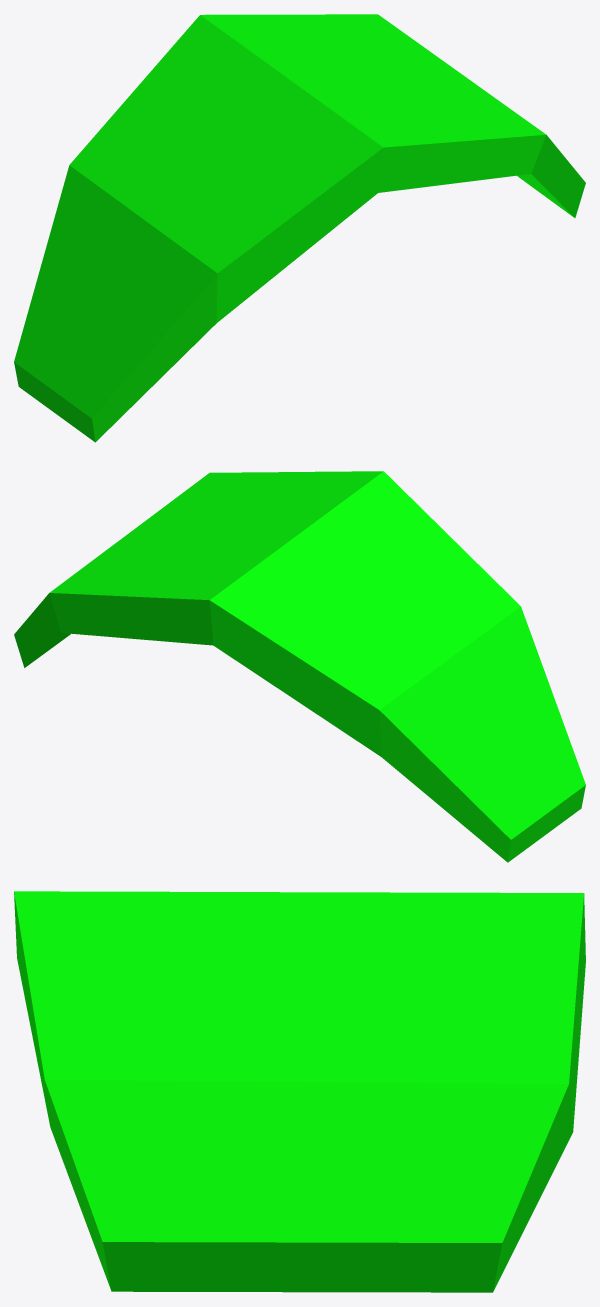
File: Plant_2a.fbx
3 renders of one model, top to bottom at view 1: azimuth 30°, elevation 25°; view 2: azimuth 150°, elevation 25°; view 3: azimuth 270°, elevation 25°, orthographic. The views are drawn at different scales.
Visible parts, largest first — view 1: Plant_2a; view 2: Plant_2a; view 3: Plant_2a.
Part boxes in pixels (box(x1,y1,x2,y2)): Plant_2a: box(14, 14, 585, 442); Plant_2a: box(14, 471, 585, 862); Plant_2a: box(14, 891, 585, 1292).
Size of the model in its own units: 59.07 by 30.92 by 38.9.
